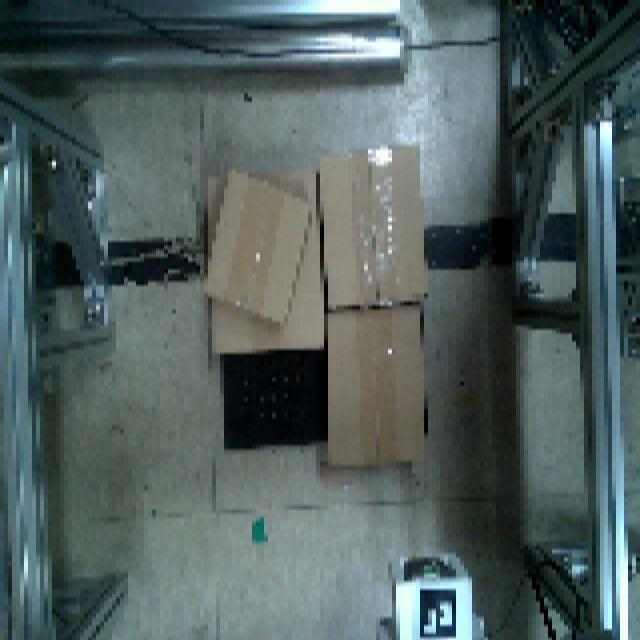box: (312, 140, 428, 312), (194, 166, 314, 330), (320, 302, 430, 470)
